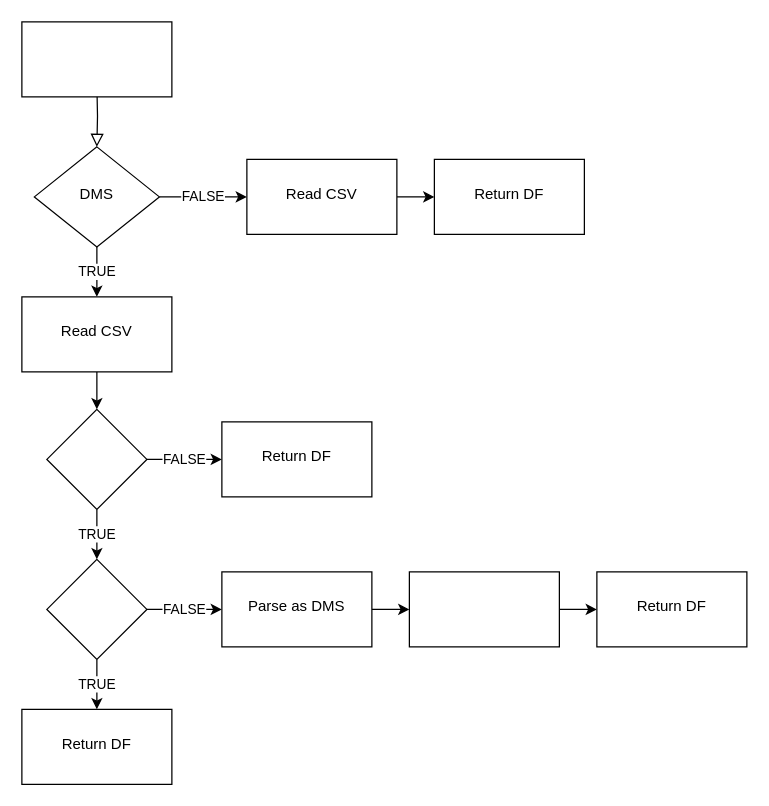
The diagram is 769 pixels wide and 806 high, and some of its shapes have lost their labels. The shapes that lost their labels are listed below. From the top down, each one's box as (x1, y1, x2, y2) in pixels, then its label:
(21, 21, 172, 97): Upload CSV
(46, 408, 147, 509): Has coords?
(46, 558, 147, 659): Numeric Coords?
(408, 571, 559, 647): Convert to DD
